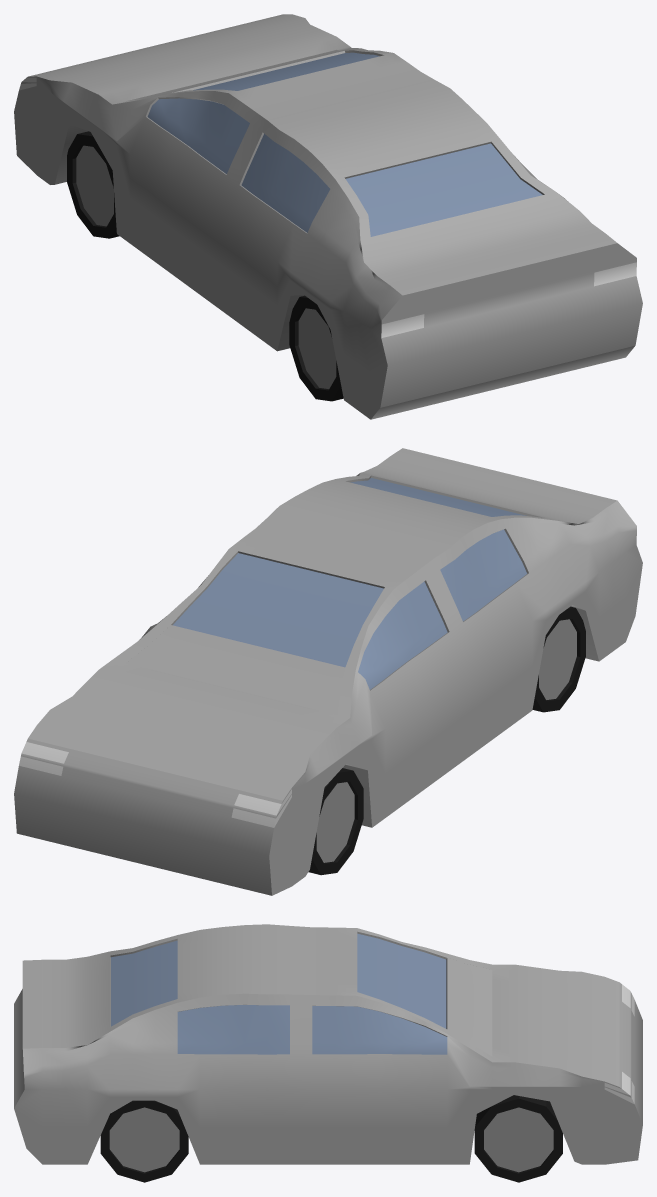
File: Sedan2.0.fbx
3 views of the same model, one above another, from view 1: azimuth 30°, elevation 25°; view 2: azimuth 150°, elevation 25°; view 3: azimuth 270°, elevation 25° (orthographic). The views are drawn at different scales.
Visible parts, largest first — view 1: pCube4679; view 2: pCube4679; view 3: pCube4679.
Boxes of the visible parts, <box> form: pCube4679: <box>14,14,642,419</box>; pCube4679: <box>14,448,642,895</box>; pCube4679: <box>14,924,642,1182</box>.
Bounding box in the file's own units: 2.16 × 1.67 × 5.48.
